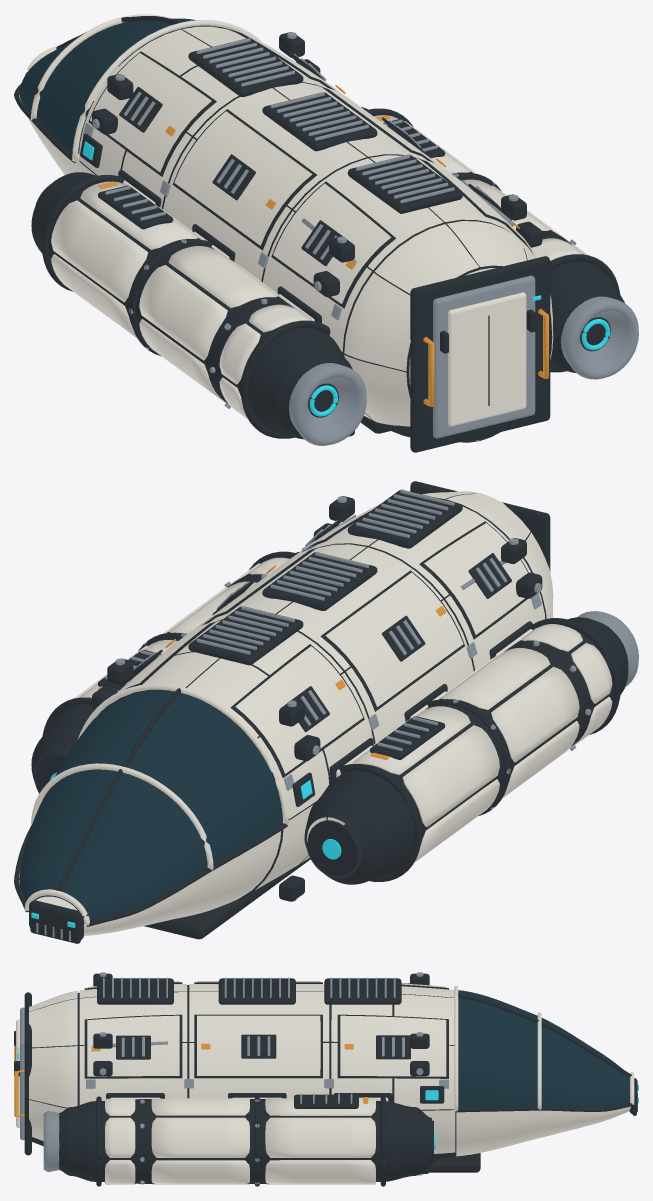
Rendered from spacecraft-pbr-lod1.glb.
The picture shows the model from 3 angles, top to bottom: view 1: azimuth 30°, elevation 25°; view 2: azimuth 150°, elevation 25°; view 3: azimuth 270°, elevation 25°; orthographic projection. The views are drawn at different scales.
Parts seen in each view (by area): view 1: Exterior_Hull_Atlas, Exterior_EnginePod_-1_Atlas, AftFrame_Atlas, Exterior_EnginePod_1_Atlas, Door_Outer, Canopy_Glass; view 2: Exterior_Hull_Atlas, Exterior_EnginePod_-1_Atlas, Canopy_Glass, Exterior_EnginePod_1_Atlas, AftFrame_Atlas; view 3: Exterior_Hull_Atlas, Exterior_EnginePod_1_Atlas, Canopy_Glass, AftFrame_Atlas.
Boxes of the visible parts, x1=… form: Exterior_Hull_Atlas: x1=14, y1=14, x2=553, y2=442; Exterior_EnginePod_-1_Atlas: x1=31, y1=172, x2=366, y2=445; AftFrame_Atlas: x1=410, y1=256, x2=550, y2=452; Exterior_EnginePod_1_Atlas: x1=361, y1=107, x2=638, y2=379; Door_Outer: x1=448, y1=292, x2=526, y2=426; Canopy_Glass: x1=19, y1=18, x2=235, y2=154; Exterior_Hull_Atlas: x1=14, y1=489, x2=553, y2=943; Exterior_EnginePod_-1_Atlas: x1=304, y1=611, x2=638, y2=884; Canopy_Glass: x1=19, y1=689, x2=282, y2=923; Exterior_EnginePod_1_Atlas: x1=31, y1=551, x2=298, y2=793; AftFrame_Atlas: x1=410, y1=481, x2=550, y2=571; Exterior_Hull_Atlas: x1=14, y1=972, x2=638, y2=1175; Exterior_EnginePod_1_Atlas: x1=43, y1=1093, x2=435, y2=1186; Canopy_Glass: x1=458, y1=990, x2=629, y2=1108; AftFrame_Atlas: x1=20, y1=992, x2=31, y2=1155.
Size of the model in its own units: 7.8 by 4.8 by 15.6.
3 materials, 2 textured.
